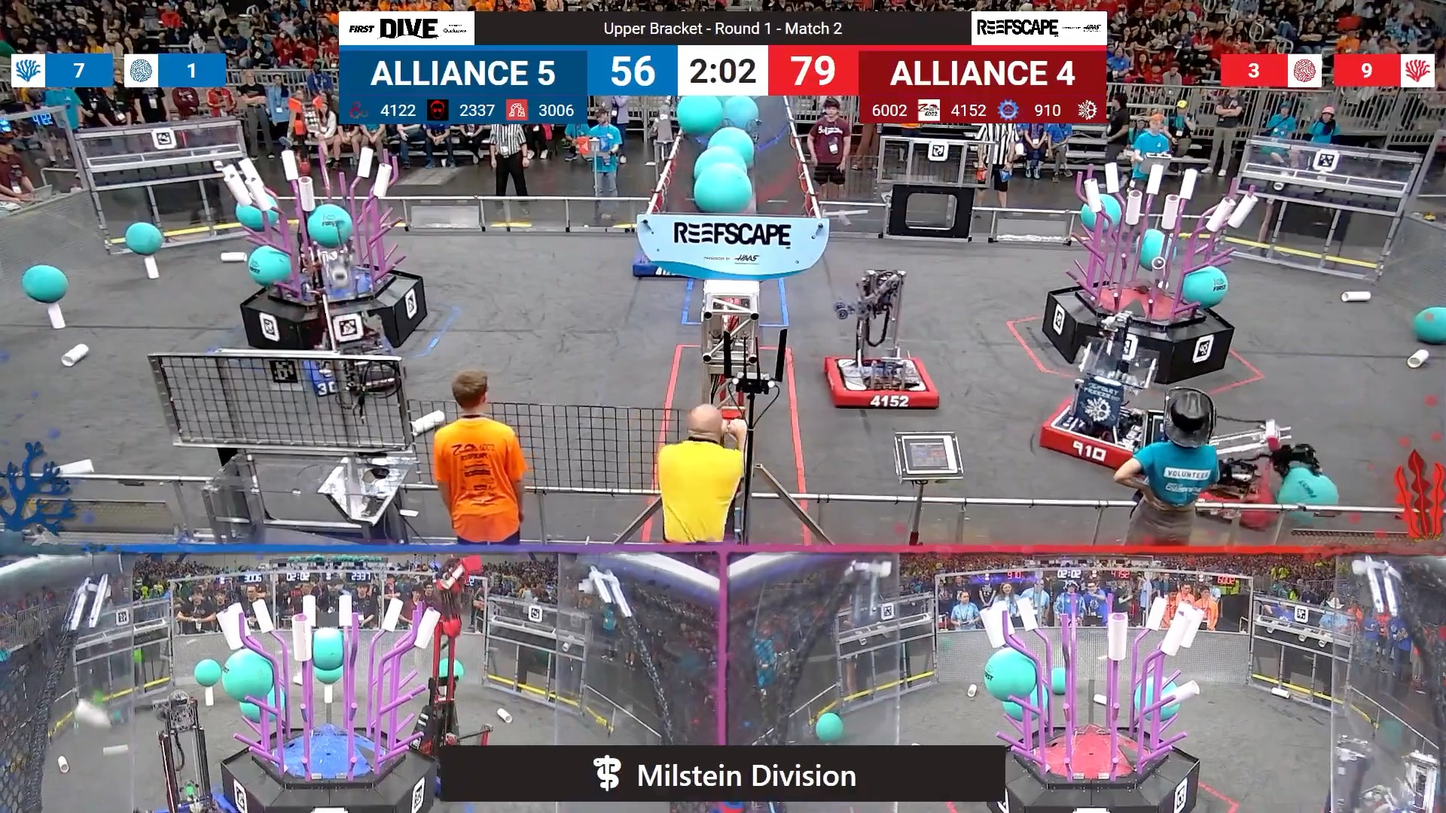bumpers: (1032, 394, 1162, 471), (813, 349, 944, 419), (300, 343, 407, 395), (146, 775, 245, 812), (624, 255, 678, 280)
